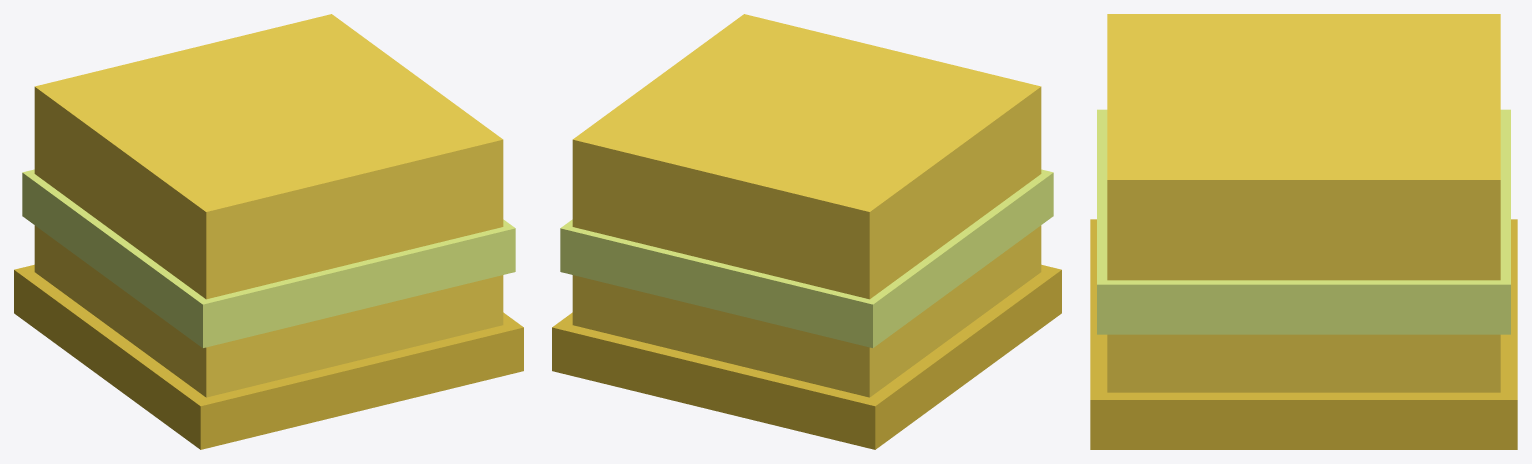
Rendered from bombeiro_manga_inf.glb.
The picture shows the model from 3 angles, left to right: view 1: azimuth 30°, elevation 25°; view 2: azimuth 150°, elevation 25°; view 3: azimuth 270°, elevation 25°; orthographic projection. The views are drawn at different scales.
Parts seen in each view (by area): view 1: bombeiro_manga_inf; view 2: bombeiro_manga_inf; view 3: bombeiro_manga_inf.
Part boxes in pixels (x1,y1,x2,y2): bombeiro_manga_inf: (14, 14, 523, 449); bombeiro_manga_inf: (552, 14, 1061, 449); bombeiro_manga_inf: (1090, 14, 1517, 449).
Bounding box in the file's own units: 0.31 × 0.21 × 0.31.
